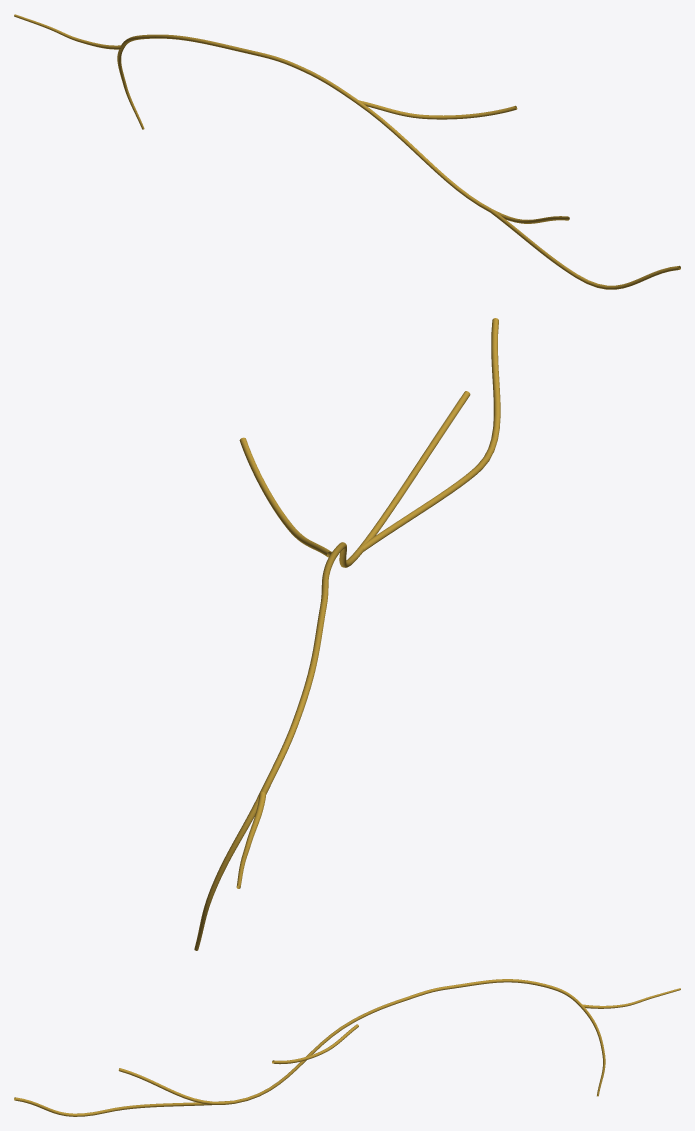
3 views of the same model, one above another, from view 1: azimuth 30°, elevation 25°; view 2: azimuth 150°, elevation 25°; view 3: azimuth 270°, elevation 25° (orthographic). The views are drawn at different scales.
Visible parts, largest first — view 1: 右侧股方肌神经; view 2: 右侧股方肌神经; view 3: 右侧股方肌神经.
Boxes of the visible parts, x1,y1,x2,y2 form: 右侧股方肌神经: (14,14,680,289); 右侧股方肌神经: (194,318,500,950); 右侧股方肌神经: (14,979,680,1116).
Size of the model in its own units: 0.1034 by 0.0558 by 0.2895.
